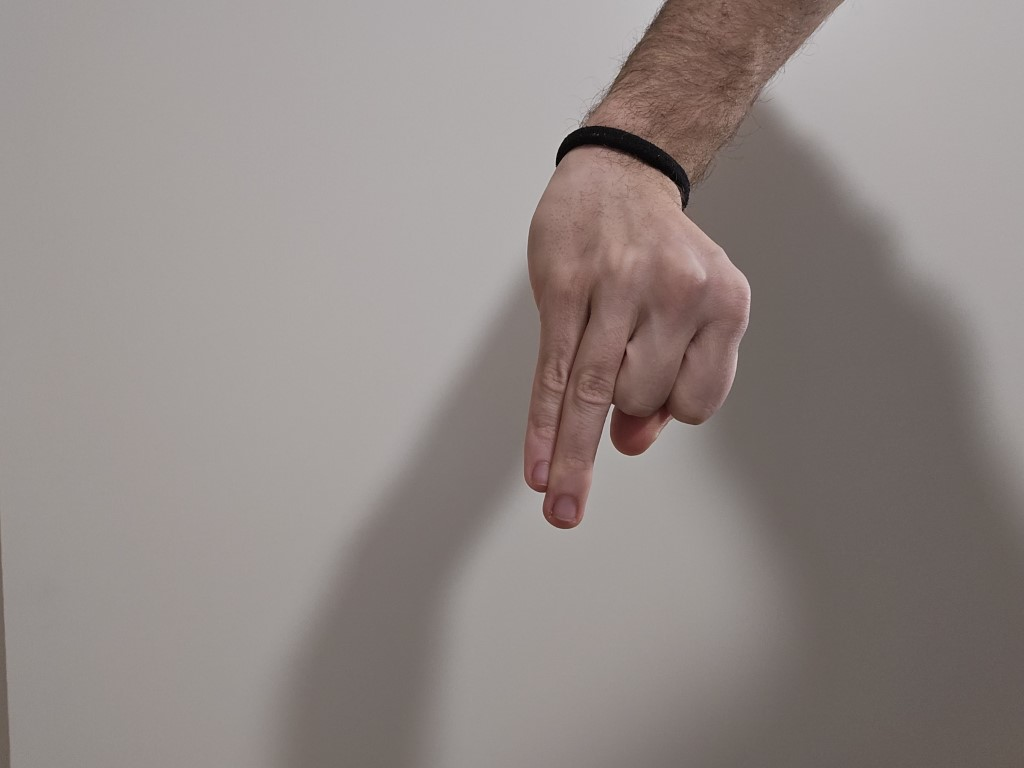n: (493, 152, 770, 566)
